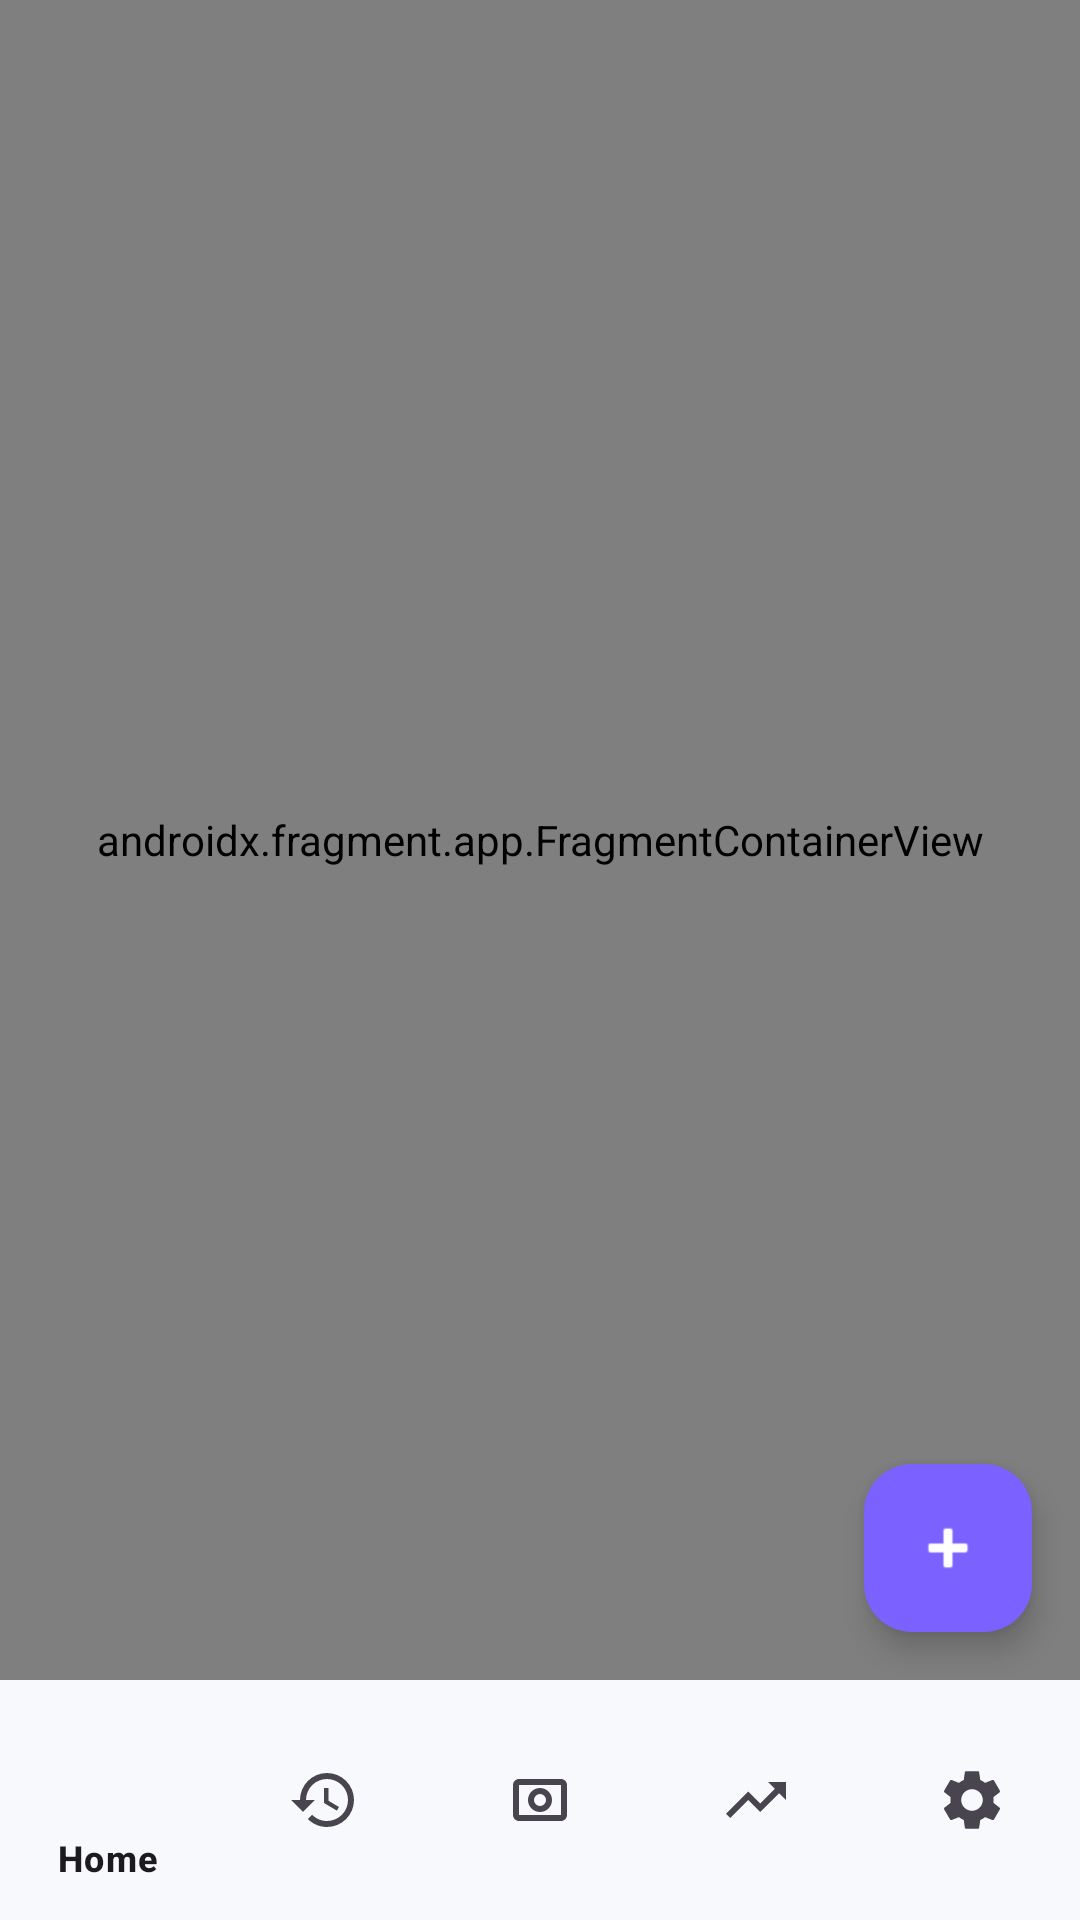

Where to tap for icons on this 1080x1920 app screen, as [x,y]:
Add Transaction: [948,1548]
